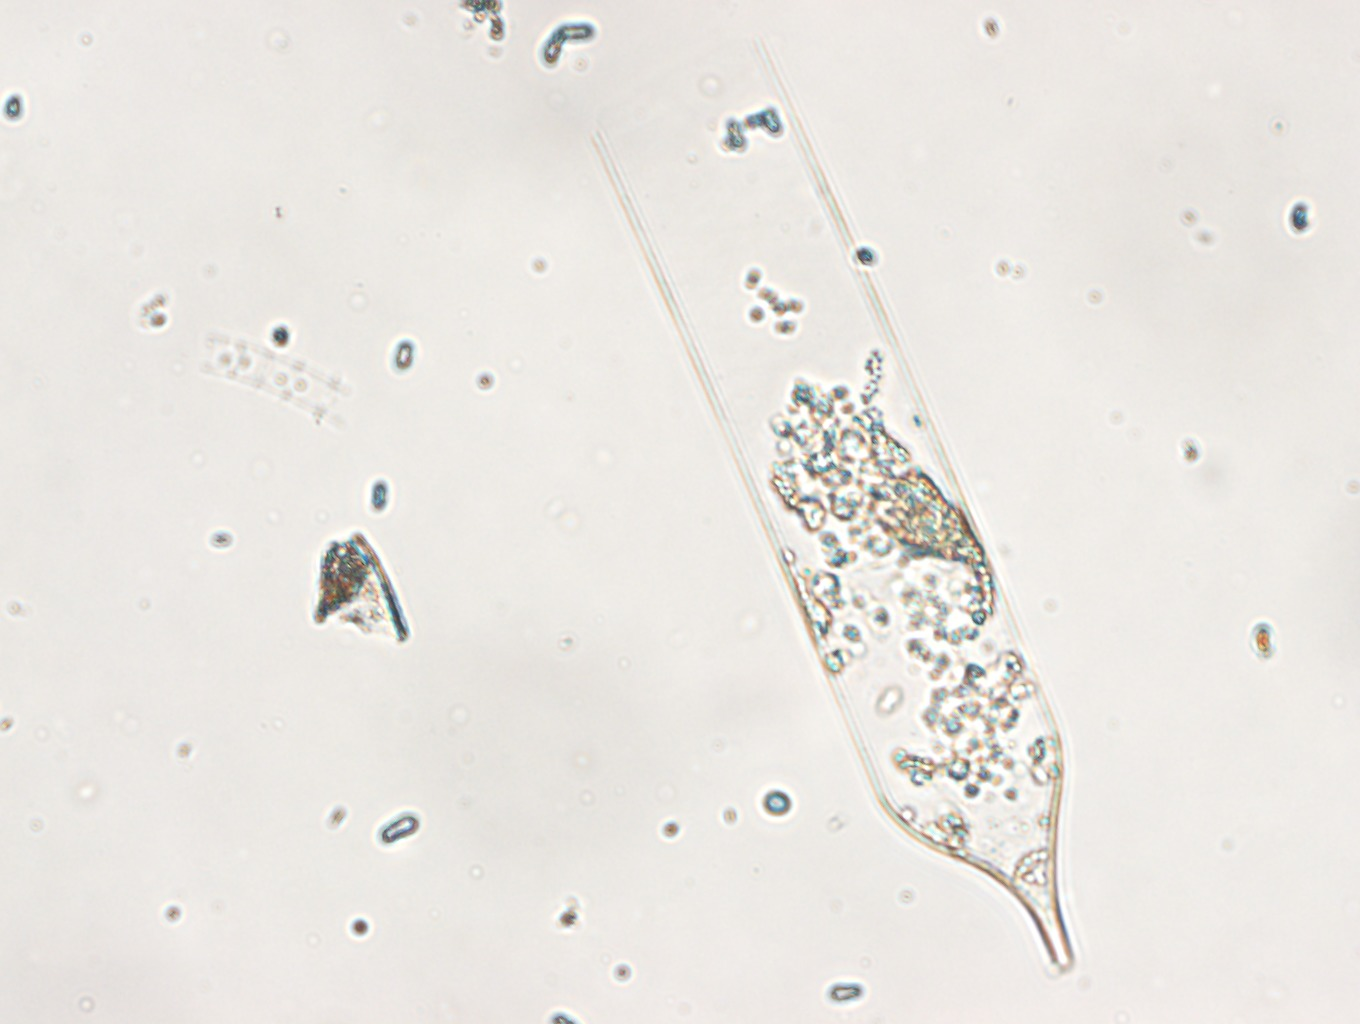rhizosolenia: (588, 39, 1076, 975)
